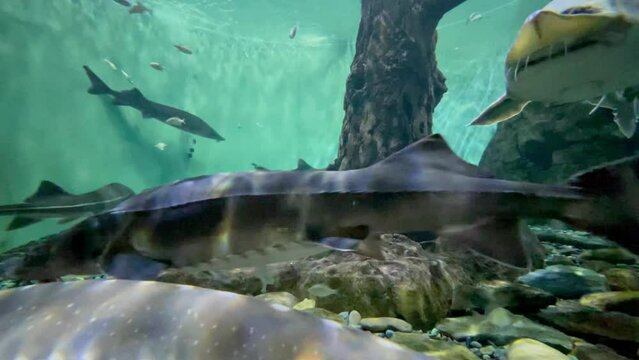Sturgeon: (22, 142, 639, 294)
